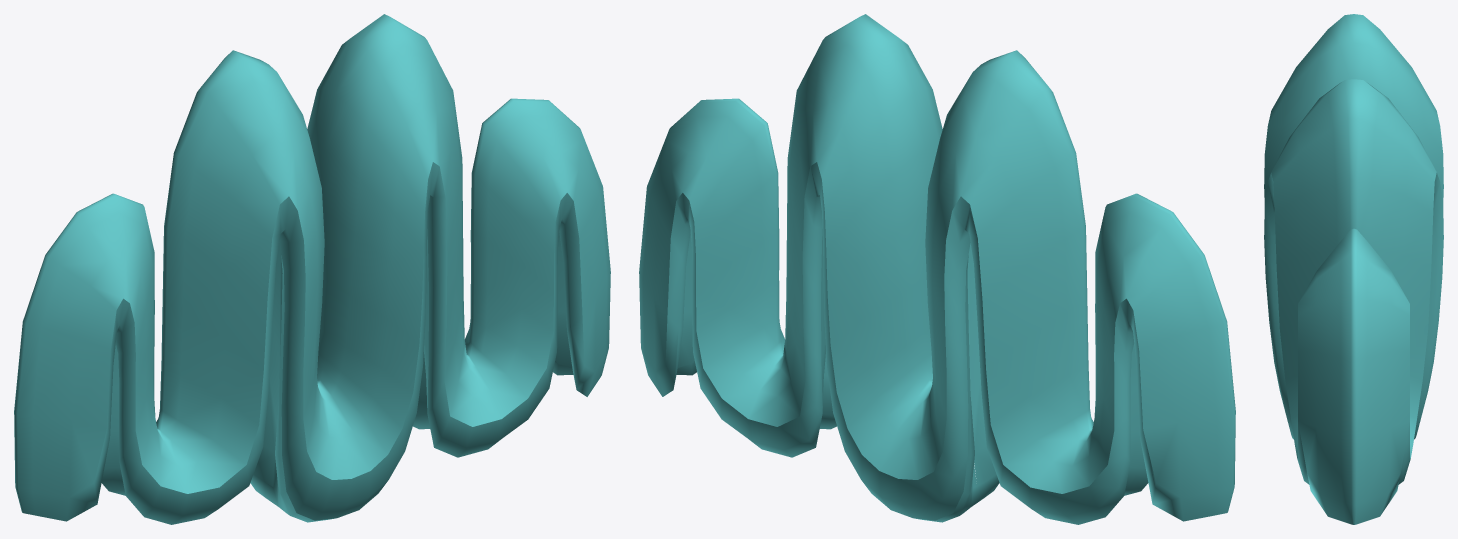
File: usk_Bush-RfUP3gXj69.glb
3 renders of one model, left to right at view 1: azimuth 30°, elevation 25°; view 2: azimuth 150°, elevation 25°; view 3: azimuth 270°, elevation 25°, orthographic. The views are drawn at different scales.
Parts seen in each view (by area): view 1: Bush_1; view 2: Bush_1; view 3: Bush_1.
Boxes of the visible parts, bbox=[...] form: Bush_1: bbox=[14, 14, 610, 524]; Bush_1: bbox=[639, 14, 1235, 524]; Bush_1: bbox=[1264, 14, 1443, 524].
Size of the model in its own units: 3.26 by 2.48 by 0.9792.
1 material, 1 textured.
